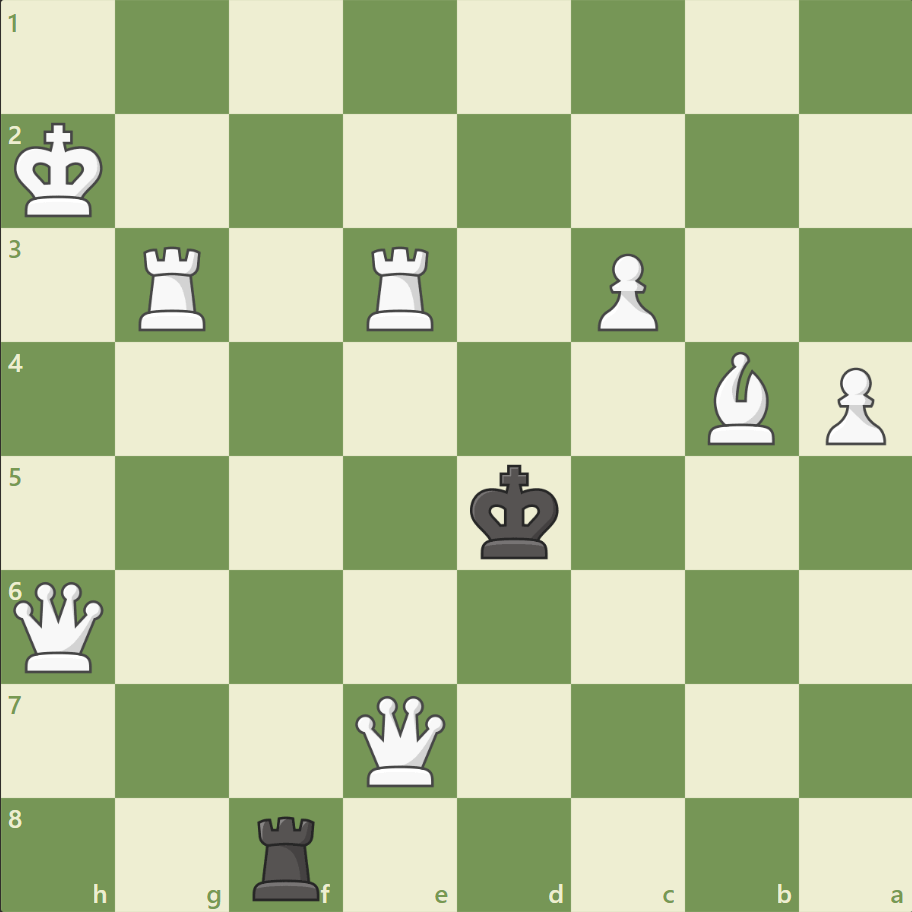B: (698, 347, 782, 449)
K: (11, 117, 111, 225)
P: (815, 359, 889, 450), (588, 246, 662, 337)
Q: (10, 576, 109, 676), (351, 690, 450, 789)
R: (360, 239, 442, 336), (133, 239, 215, 336)
k: (465, 458, 565, 566)
r: (246, 806, 329, 904)
